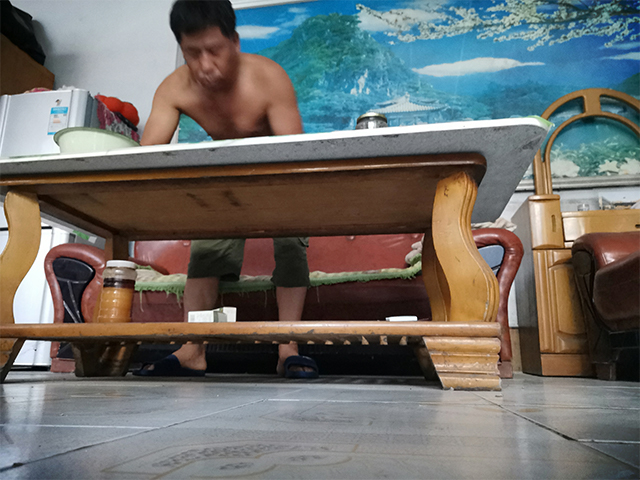sofa: (570, 230, 640, 382)
table: (1, 113, 550, 392)
